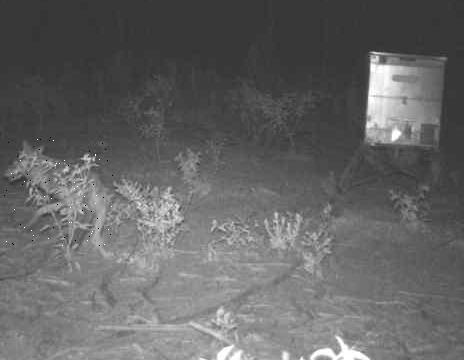Coyote: (3, 136, 113, 246)
